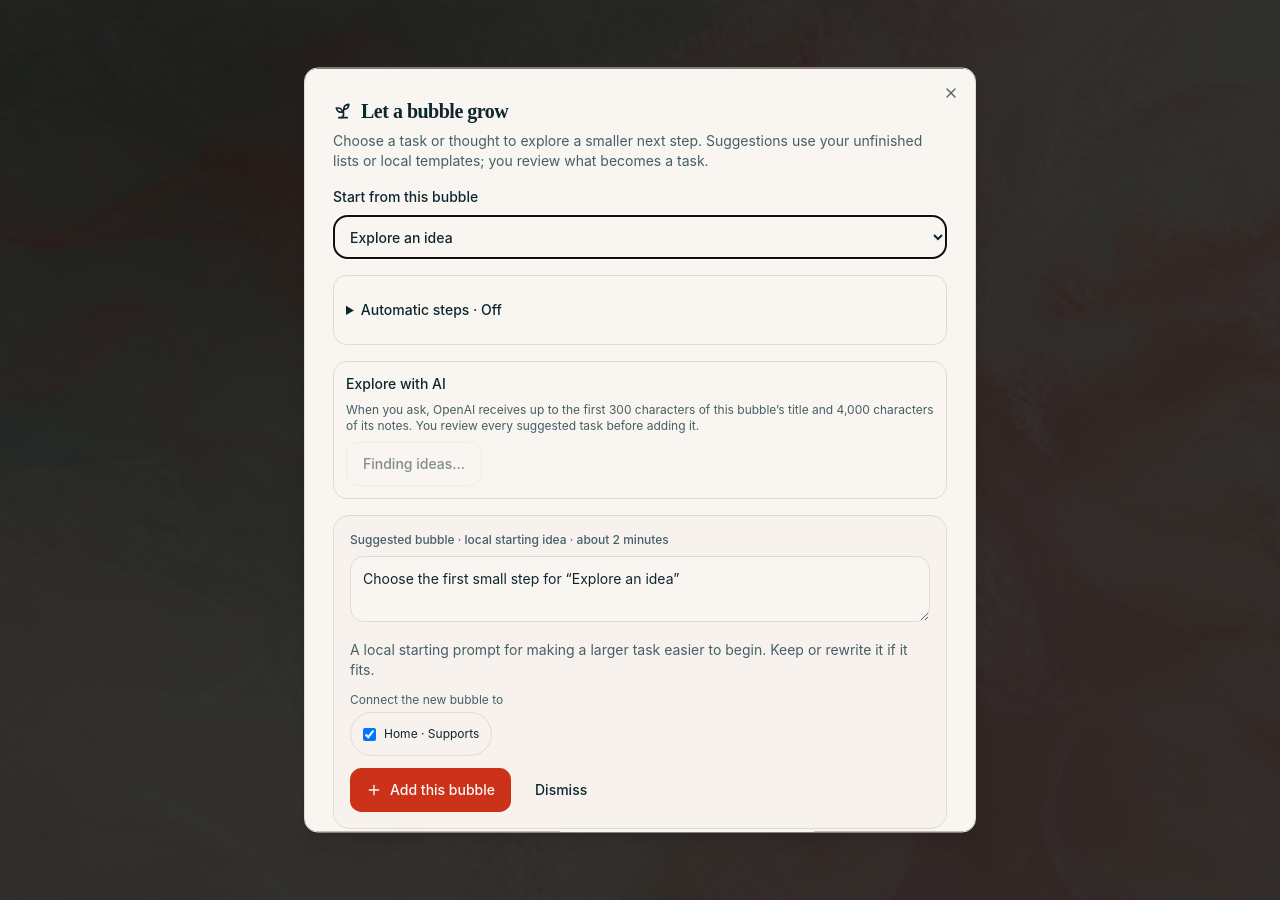
Test: Explicit AI ideas in Grow › cancels the previous AI request when switching source bubbles without requesting another
Select "A different source" in the dropdown named "Bubble to grow" at (640, 236), box [333,214,947,258]
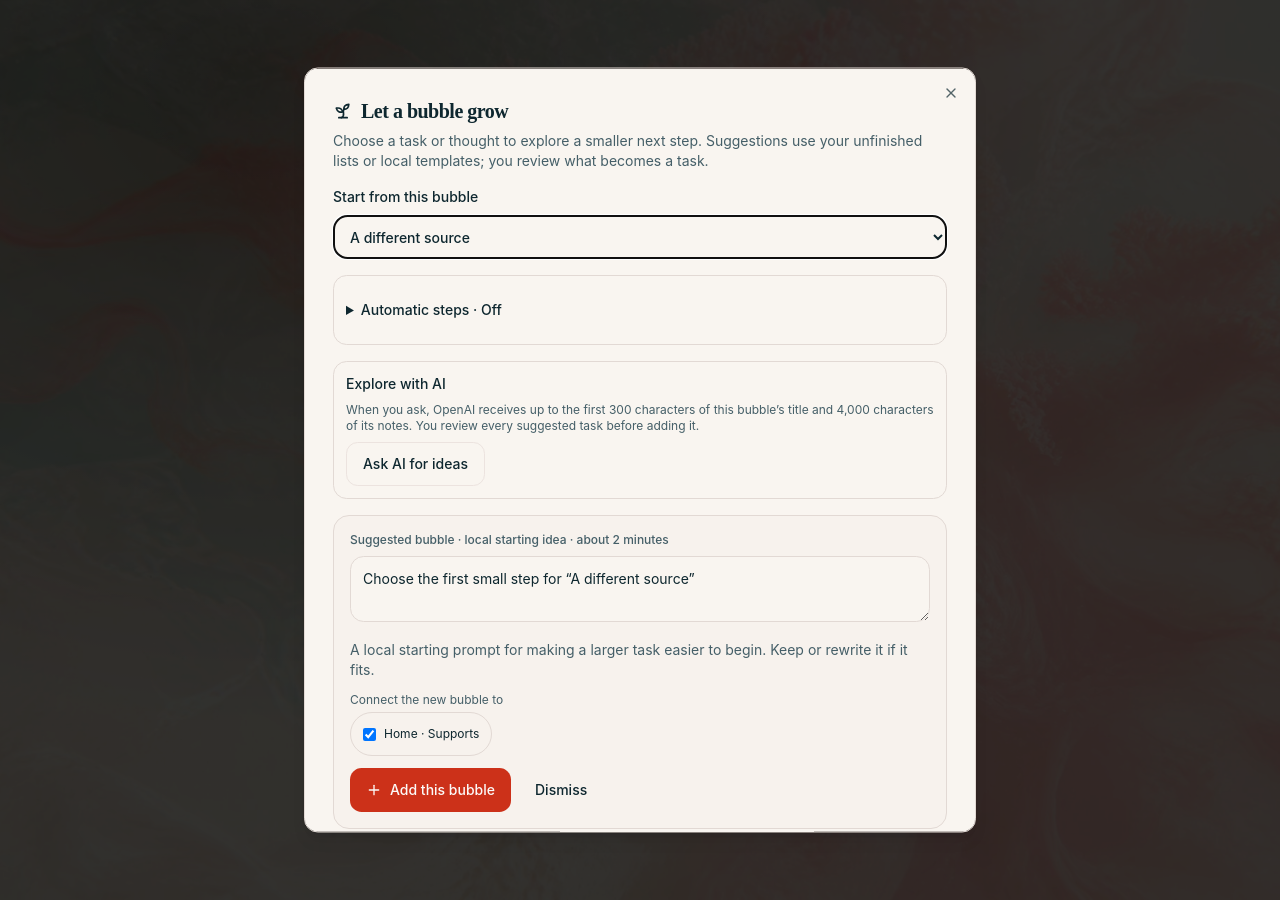
Expected: the button "Ask AI for ideas" is enabled, [346,442,485,486]
